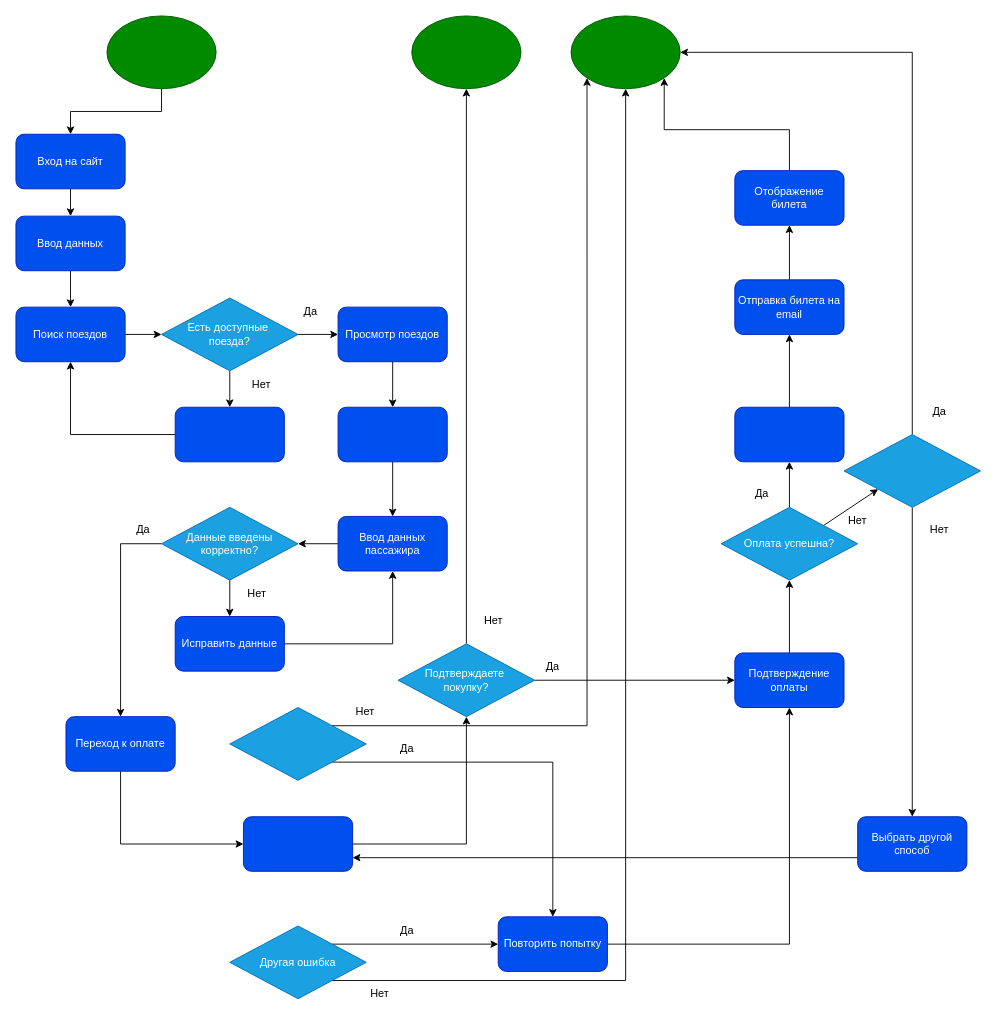
This 996x1024 diagram has some shape labels left out. The shapes that lost their labels are listed below. From the top down, each one's box as (x1, y1, x2, y2) in pixels, then its label:
(106, 15, 216, 89): Начало
(411, 15, 521, 89): Отмена покупки
(570, 15, 680, 89): Конец
(174, 406, 284, 462): Изменить параметры
(337, 406, 447, 462): Выбор поезда и места
(734, 406, 844, 462): Формирование билета
(843, 434, 981, 507): Недостаточно средств
(229, 707, 366, 780): Сбой соединения
(243, 816, 353, 871): Выбор способа оплаты
